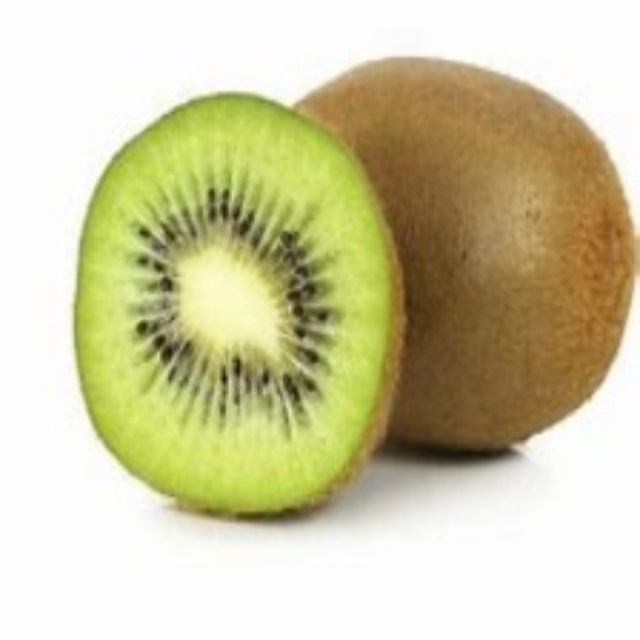kiwi: (70, 89, 402, 512), (285, 57, 639, 453)
